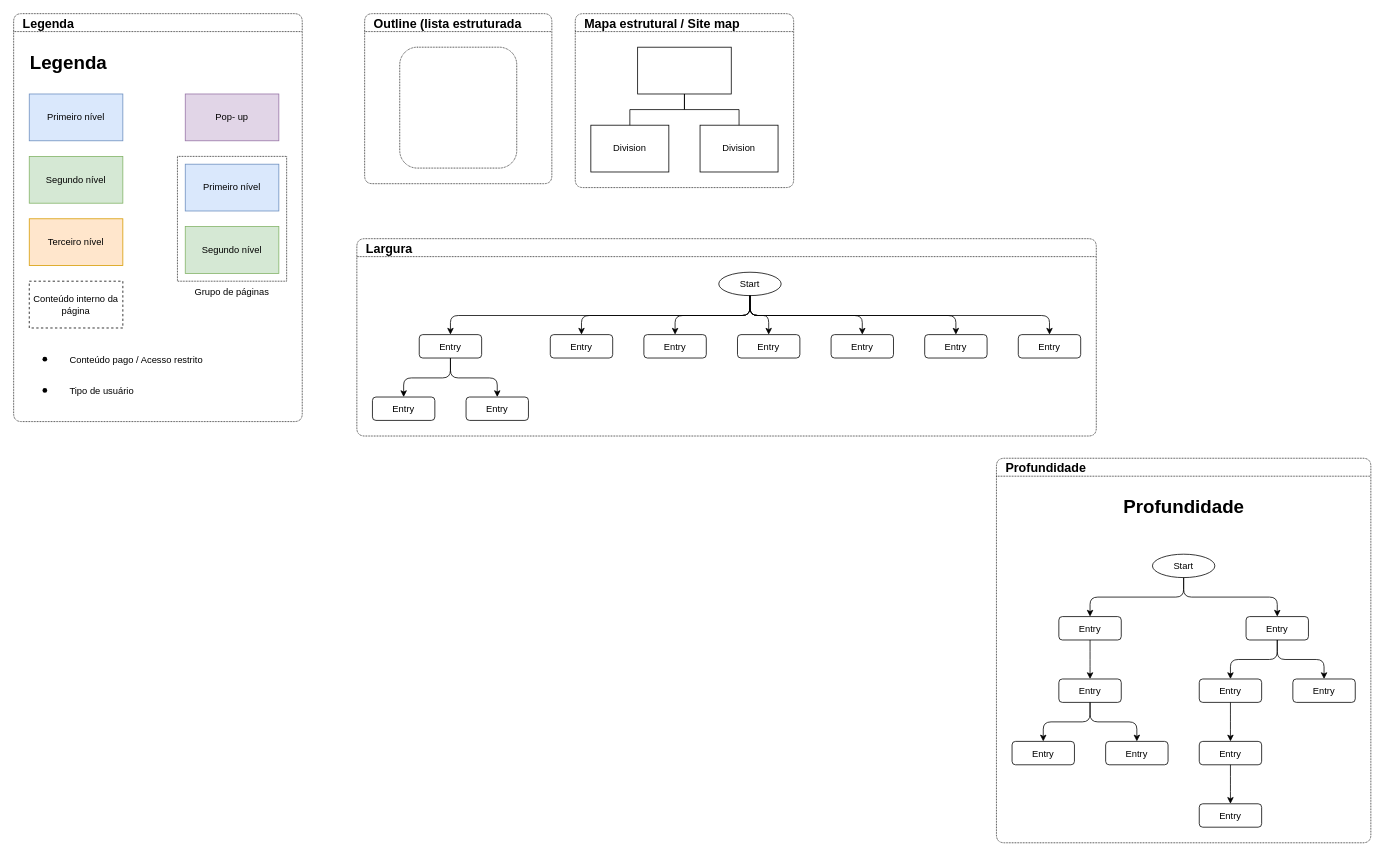
This 1385x856 diagram has some shape labels left out. The centre of each missing label's shape, as x and y in pixels:
Organization: pixel 684 70
Value 1 Value 2 Value 3: pixel 458 107
